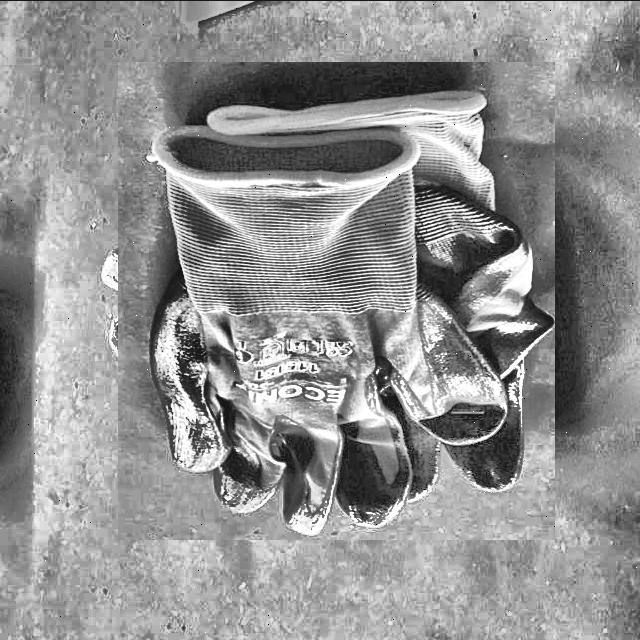gloved: (107, 71, 565, 529)
